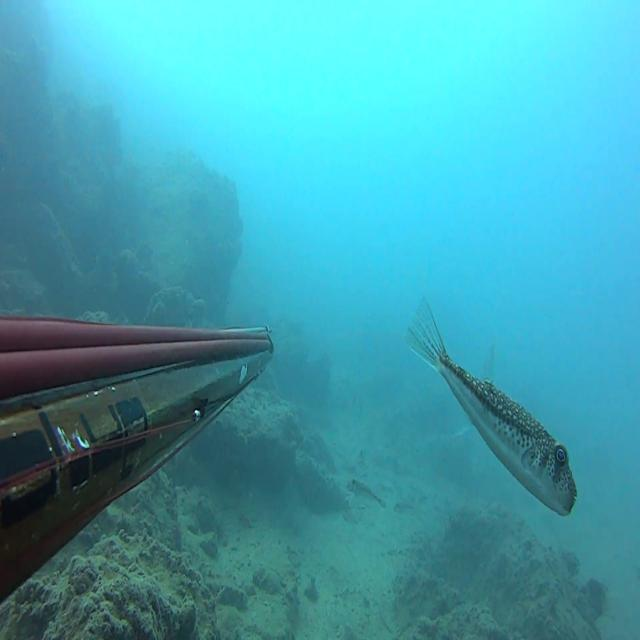Balon Baligi: (404, 295, 578, 519), (347, 479, 379, 502)
